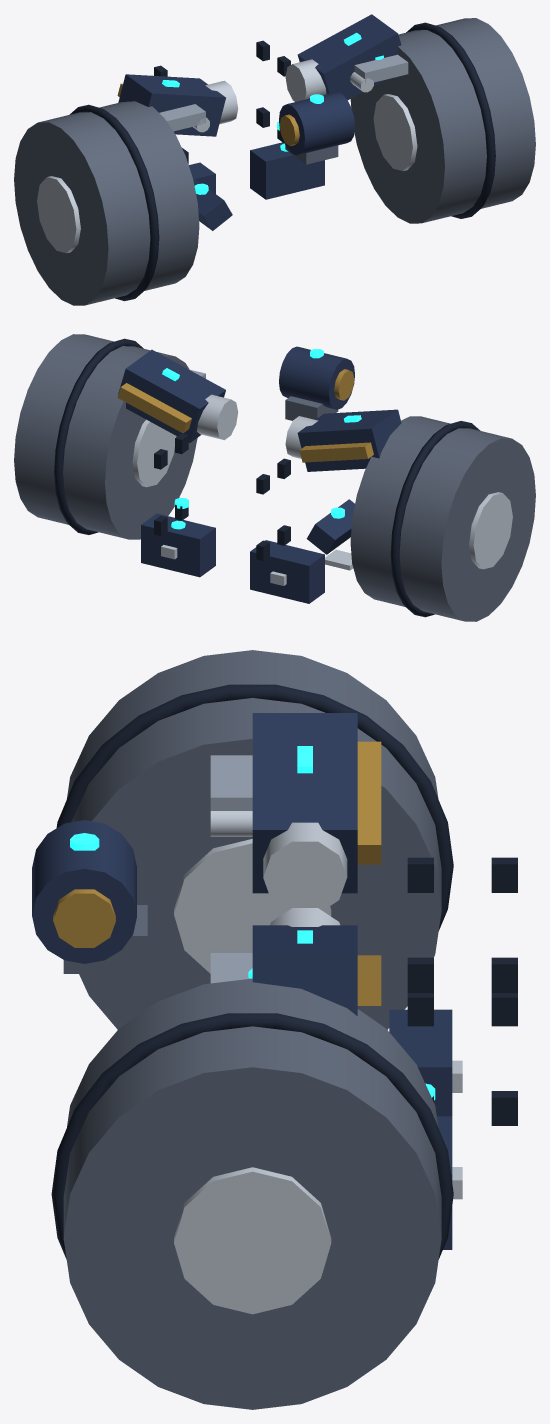
Rendered from tower_skywatch_rate_s8.glb.
3 views of the same model, one above another, from view 1: azimuth 30°, elevation 25°; view 2: azimuth 150°, elevation 25°; view 3: azimuth 270°, elevation 25° (orthographic). The views are drawn at different scales.
Visible parts, largest first — view 1: skywatch_big_drum_r, skywatch_big_drum_l, skywatch_feed_cover_l, skywatch_feed_cover_r, skywatch_feed_motor, skywatch_belt_box-0.24, skywatch_big_drum_cap_r, skywatch_big_drum_cap_l, skywatch_big_drum_rib_r, skywatch_big_drum_rib_l, skywatch_feed_sprocket_l, skywatch_belt_guide_l (+6 smaller); view 2: skywatch_big_drum_r, skywatch_big_drum_l, skywatch_feed_cover_l, skywatch_feed_cover_r, skywatch_belt_box0.24, skywatch_belt_box-0.24, skywatch_feed_motor, skywatch_big_drum_cap_r, skywatch_big_drum_rib_r, skywatch_big_drum_rib_l, skywatch_big_drum_cap_l, skywatch_feed_belt_l (+7 smaller); view 3: skywatch_big_drum_l, skywatch_big_drum_r, skywatch_big_drum_cap_l, skywatch_feed_cover_r, skywatch_feed_motor, skywatch_big_drum_rib_l, skywatch_big_drum_cap_r, skywatch_big_drum_rib_r, skywatch_feed_cover_l, skywatch_feed_sprocket_r, skywatch_belt_box0.24, skywatch_feed_belt_r (+14 smaller).
Boxes of the visible parts, x1=… form: skywatch_big_drum_r: x1=14, y1=101, x2=199, y2=305; skywatch_big_drum_l: x1=350, y1=18, x2=535, y2=223; skywatch_feed_cover_l: x1=297, y1=14, x2=401, y2=99; skywatch_feed_cover_r: x1=118, y1=74, x2=225, y2=136; skywatch_feed_motor: x1=279, y1=92, x2=354, y2=155; skywatch_belt_box-0.24: x1=250, y1=142, x2=324, y2=199; skywatch_big_drum_cap_r: x1=37, y1=176, x2=80, y2=253; skywatch_big_drum_cap_l: x1=373, y1=94, x2=417, y2=170; skywatch_big_drum_rib_r: x1=70, y1=104, x2=159, y2=301; skywatch_big_drum_rib_l: x1=406, y1=22, x2=495, y2=218; skywatch_feed_sprocket_l: x1=285, y1=59, x2=326, y2=101; skywatch_belt_guide_l: x1=354, y1=54, x2=408, y2=83; skywatch_big_drum_r: x1=350, y1=416, x2=535, y2=621; skywatch_big_drum_l: x1=14, y1=334, x2=197, y2=539; skywatch_feed_cover_l: x1=118, y1=349, x2=225, y2=442; skywatch_feed_cover_r: x1=297, y1=409, x2=401, y2=471; skywatch_belt_box0.24: x1=250, y1=540, x2=324, y2=603; skywatch_belt_box-0.24: x1=141, y1=513, x2=215, y2=577; skywatch_feed_motor: x1=279, y1=346, x2=354, y2=409; skywatch_big_drum_cap_r: x1=469, y1=492, x2=512, y2=569; skywatch_big_drum_rib_r: x1=390, y1=421, x2=480, y2=617; skywatch_big_drum_rib_l: x1=54, y1=338, x2=143, y2=534; skywatch_big_drum_cap_l: x1=132, y1=419, x2=176, y2=487; skywatch_feed_belt_l: x1=117, y1=383, x2=191, y2=433; skywatch_big_drum_l: x1=63, y1=978, x2=441, y2=1409; skywatch_big_drum_r: x1=67, y1=650, x2=441, y2=1029; skywatch_big_drum_cap_l: x1=174, y1=1167, x2=331, y2=1314; skywatch_feed_cover_r: x1=252, y1=713, x2=357, y2=893; skywatch_feed_motor: x1=32, y1=820, x2=136, y2=963; skywatch_big_drum_rib_l: x1=51, y1=1013, x2=453, y2=1259; skywatch_big_drum_cap_r: x1=174, y1=839, x2=331, y2=973; skywatch_big_drum_rib_r: x1=56, y1=684, x2=453, y2=930; skywatch_feed_cover_l: x1=252, y1=925, x2=357, y2=1015; skywatch_feed_sprocket_r: x1=263, y1=822, x2=347, y2=910; skywatch_belt_box0.24: x1=389, y1=1009, x2=452, y2=1116; skywatch_feed_belt_r: x1=357, y1=741, x2=381, y2=864.
Size of the model in its own units: 1.92 by 0.794 by 0.925.
